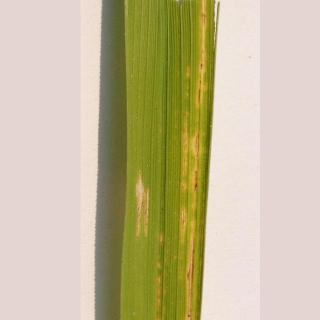Hawar-Daun: (122, 1, 272, 320)
